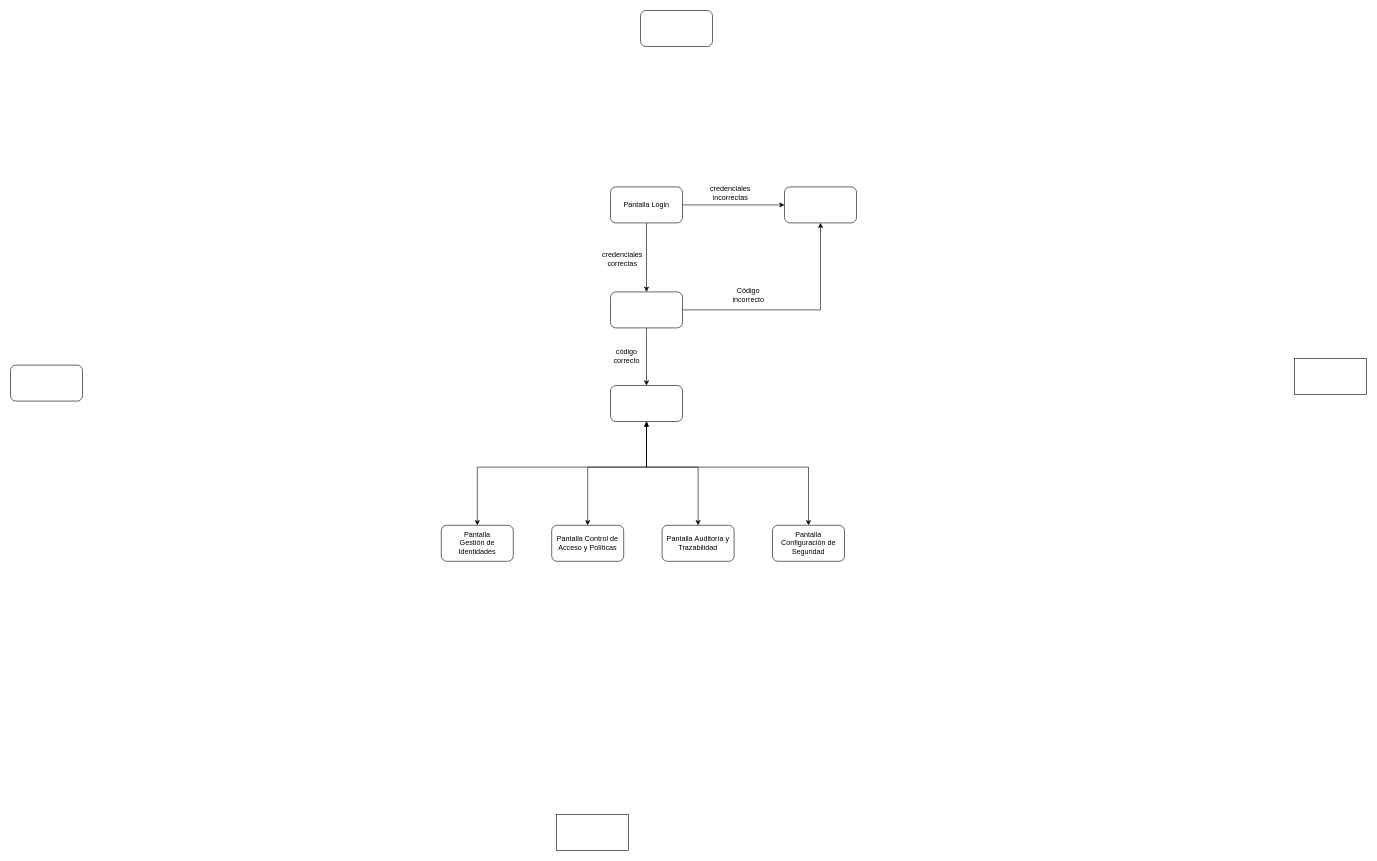
Image size: 1377x861. Some labels were removed from this diagram. The centre of each missing label's shape, as x and y in pixels:
"Pantalla Dashboard Principal" goes at [646,403].
"Pantalla de acceso denegado" goes at [820,204].
"Pantalla FMA" goes at [646,309].
